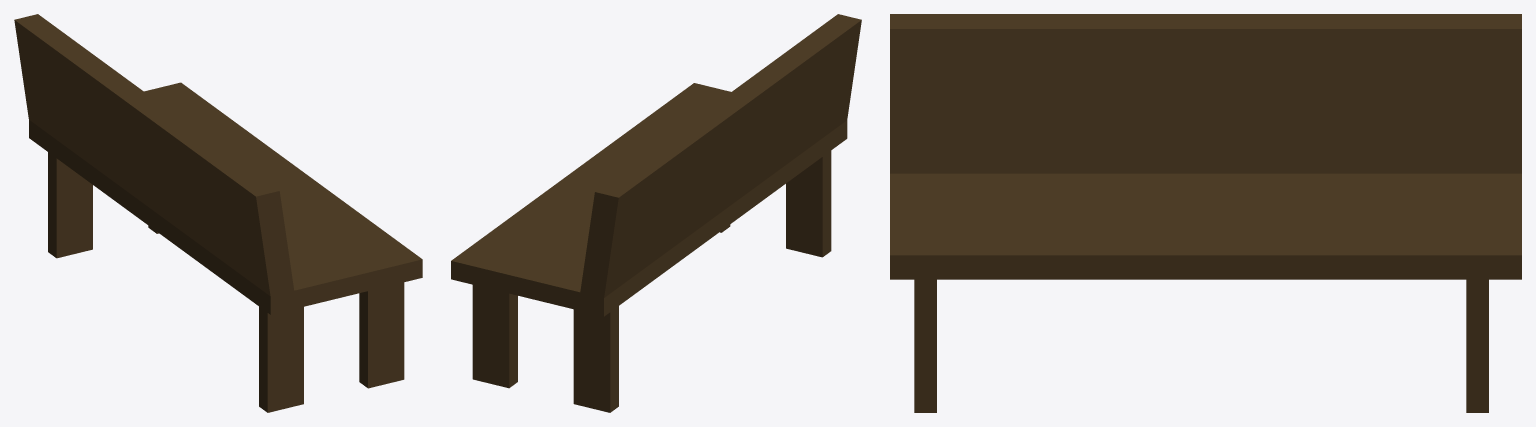
Rendered from cucumber.fbx.
3 renders of one model, left to right at view 1: azimuth 30°, elevation 25°; view 2: azimuth 150°, elevation 25°; view 3: azimuth 270°, elevation 25°, orthographic. The views are drawn at different scales.
Parts seen in each view (by area): view 1: Cube.001; view 2: Cube.001; view 3: Cube.001.
Boxes of the visible parts, x1,y1,x2,y2 form: Cube.001: (14,14,422,412); Cube.001: (451,14,861,412); Cube.001: (890,14,1521,412).
Bounding box in the file's own units: 60.26 × 78.86 × 151.
